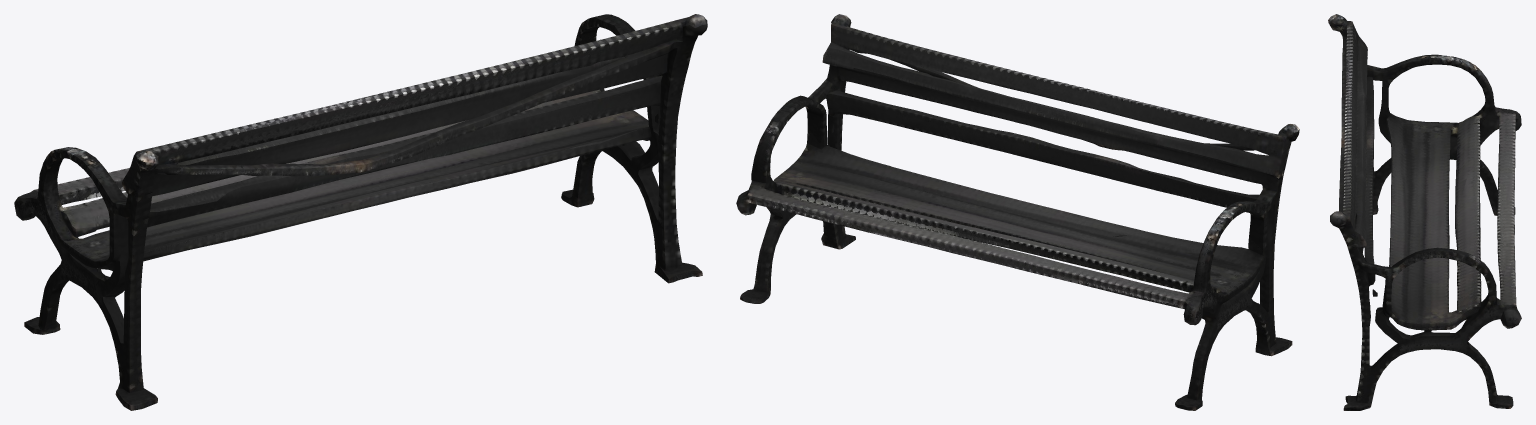
The picture shows the model from 3 angles, left to right: view 1: azimuth 30°, elevation 25°; view 2: azimuth 150°, elevation 25°; view 3: azimuth 270°, elevation 25°; orthographic projection. The views are drawn at different scales.
Parts seen in each view (by area): view 1: bench-dusk; view 2: bench-dusk; view 3: bench-dusk.
Part boxes in pixels (x1=…): bench-dusk: x1=14, y1=14, x2=707, y2=410; bench-dusk: x1=736, y1=14, x2=1299, y2=410; bench-dusk: x1=1328, y1=14, x2=1521, y2=410.
Bounding box in the file's own units: 1.9 × 0.8502 × 0.7621.
Materials: 1 (1 with a texture image).
